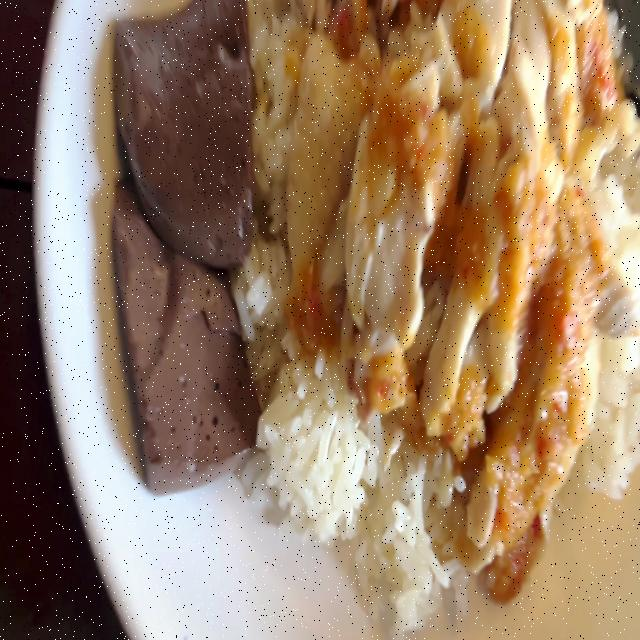boiled_chicken: (293, 0, 602, 530)
boiled_chicken_blood_jelly: (110, 170, 253, 458), (108, 0, 248, 266)
chicken_rice: (103, 0, 640, 635)
